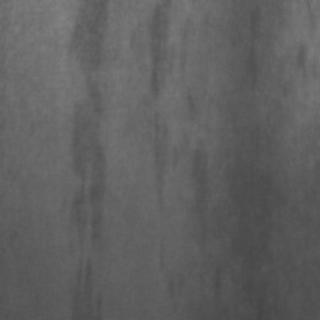inclusion: (55, 0, 112, 316), (140, 0, 188, 220), (224, 0, 270, 106), (180, 138, 216, 262), (67, 253, 105, 317)
